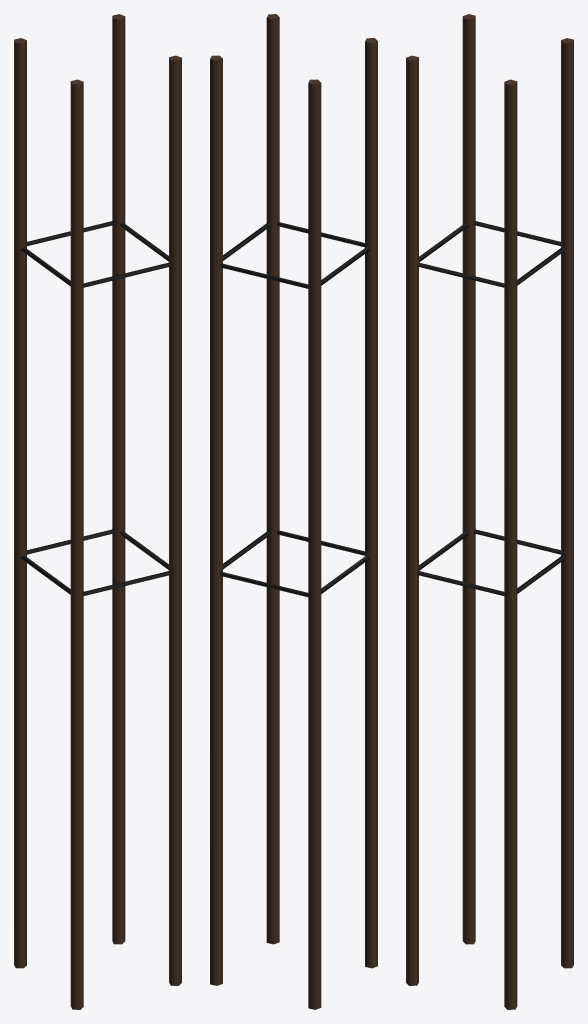
File: trellis-and-stakes--stakes-90.glb
The picture shows the model from 3 angles, left to right: view 1: azimuth 30°, elevation 25°; view 2: azimuth 150°, elevation 25°; view 3: azimuth 330°, elevation 25°; orthographic projection.
Parts seen in each view (by area): view 1: stakes, stake_ties; view 2: stakes, stake_ties; view 3: stakes, stake_ties.
Boxes of the visible parts, x1,y1,x2,y2 form: stakes: (14, 14, 181, 1009); stake_ties: (21, 221, 171, 595); stakes: (210, 14, 377, 1009); stake_ties: (220, 221, 370, 596); stakes: (406, 14, 573, 1009); stake_ties: (416, 221, 566, 595).
Size of the model in its own units: 0.1114 by 0.9 by 0.1109.
